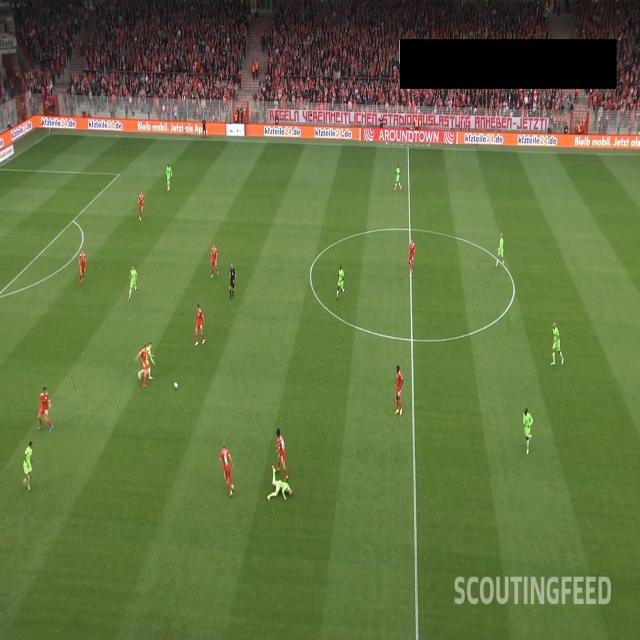ball: (174, 380, 178, 390)
